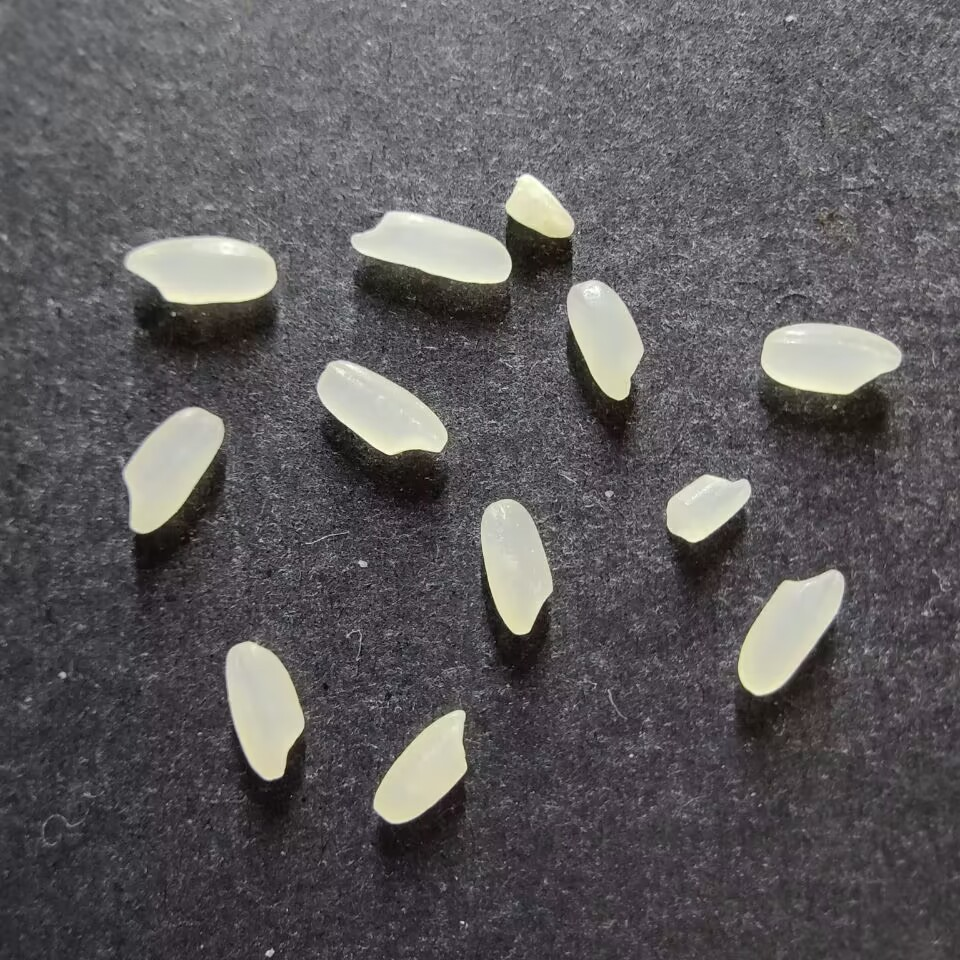broken: (665, 473, 752, 542), (503, 173, 576, 238)
rice: (736, 569, 846, 695), (122, 407, 225, 534), (315, 359, 448, 455), (350, 210, 511, 283), (224, 640, 305, 781), (372, 708, 468, 825), (124, 236, 276, 304), (759, 323, 902, 395), (479, 498, 553, 635), (566, 279, 644, 401)
